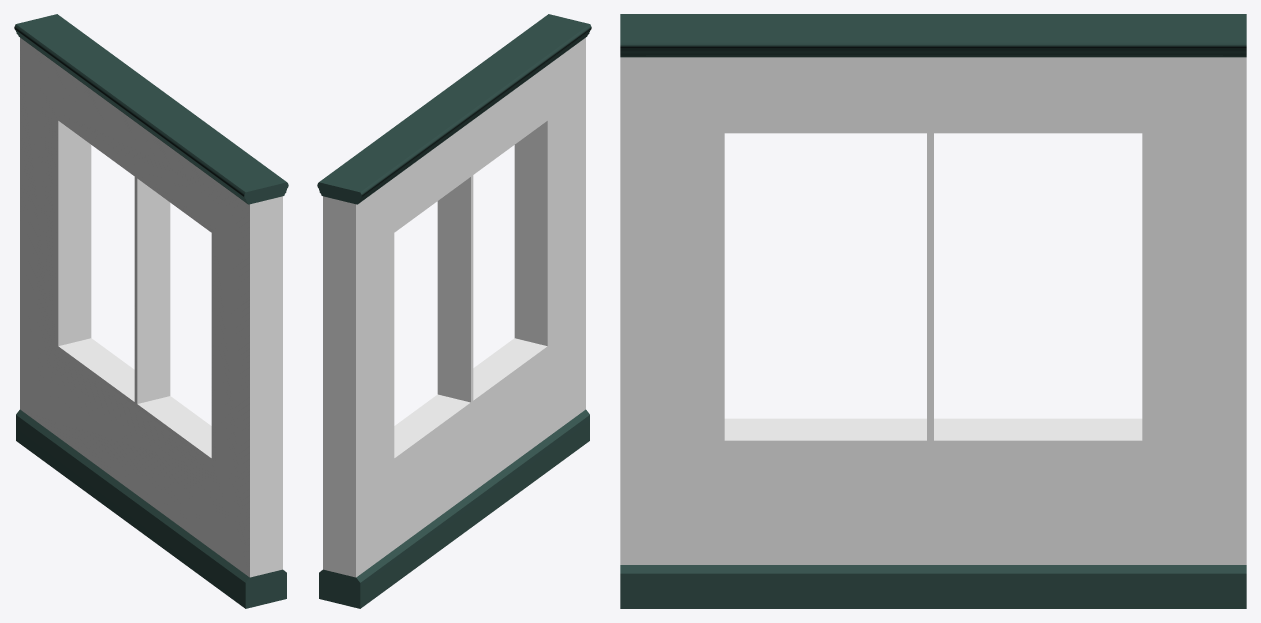
Rendered from Neo_WallWindowFrame_02.fbx.
3 views of the same model, side by side, from view 1: azimuth 30°, elevation 25°; view 2: azimuth 150°, elevation 25°; view 3: azimuth 270°, elevation 25° (orthographic). The views are drawn at different scales.
Parts seen in each view (by area): view 1: Neo_WallWindowFrame_02_LOD00; view 2: Neo_WallWindowFrame_02_LOD00; view 3: Neo_WallWindowFrame_02_LOD00.
Part boxes in pixels (bbox=[...]): Neo_WallWindowFrame_02_LOD00: bbox=[14, 14, 288, 608]; Neo_WallWindowFrame_02_LOD00: bbox=[317, 14, 591, 608]; Neo_WallWindowFrame_02_LOD00: bbox=[620, 14, 1246, 608].
Size of what is drawn, in the model's own units: 33.6 by 300 by 300.
